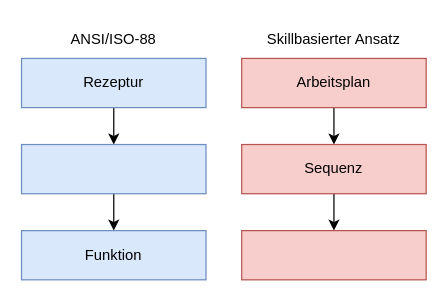
This 448x301 diagram has some shape labels left out. The shapes that lost their labels are listed below. From the top down, each one's centre as x and y in pixels, then its label:
At [113,168]: "Operation".
At [333,254]: "Skill".
